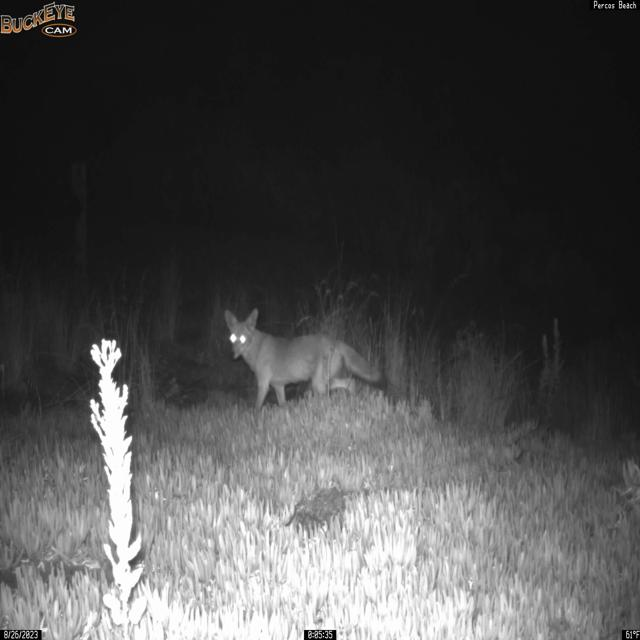coyote: (224, 307, 387, 412)
